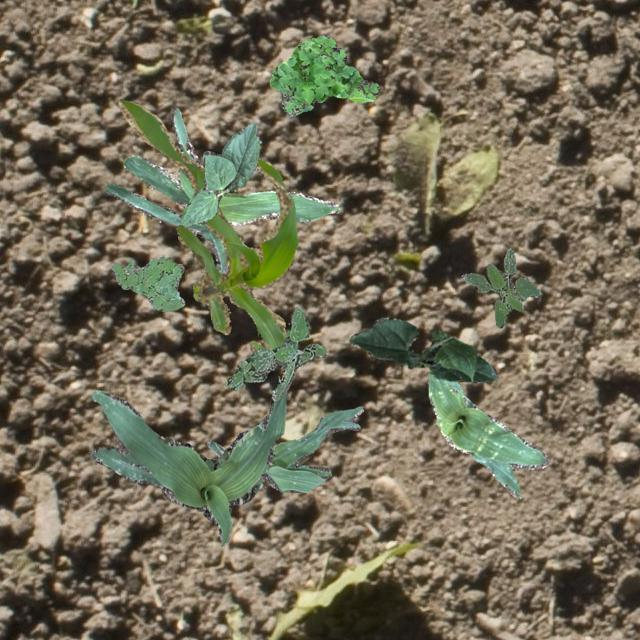crop: (116, 98, 296, 352), (104, 106, 338, 272), (90, 390, 286, 546), (427, 370, 548, 498), (205, 406, 362, 492), (348, 316, 496, 382), (180, 120, 260, 226)
weed: (224, 306, 326, 400), (268, 34, 379, 116), (462, 248, 540, 326), (110, 256, 183, 310)
